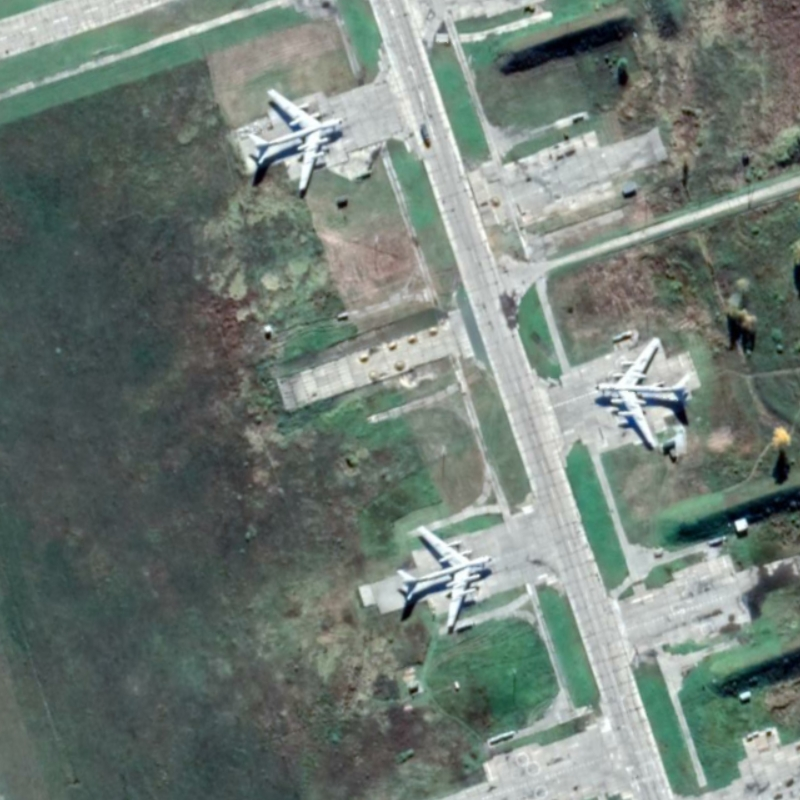A17: (593, 336, 693, 452), (394, 524, 494, 629), (246, 88, 346, 192)
